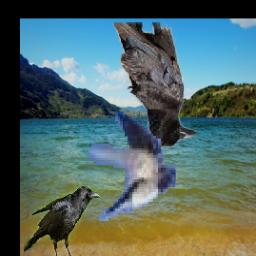Crow: (113, 23, 198, 148), (25, 185, 102, 256)
Swallow: (87, 112, 176, 228)
